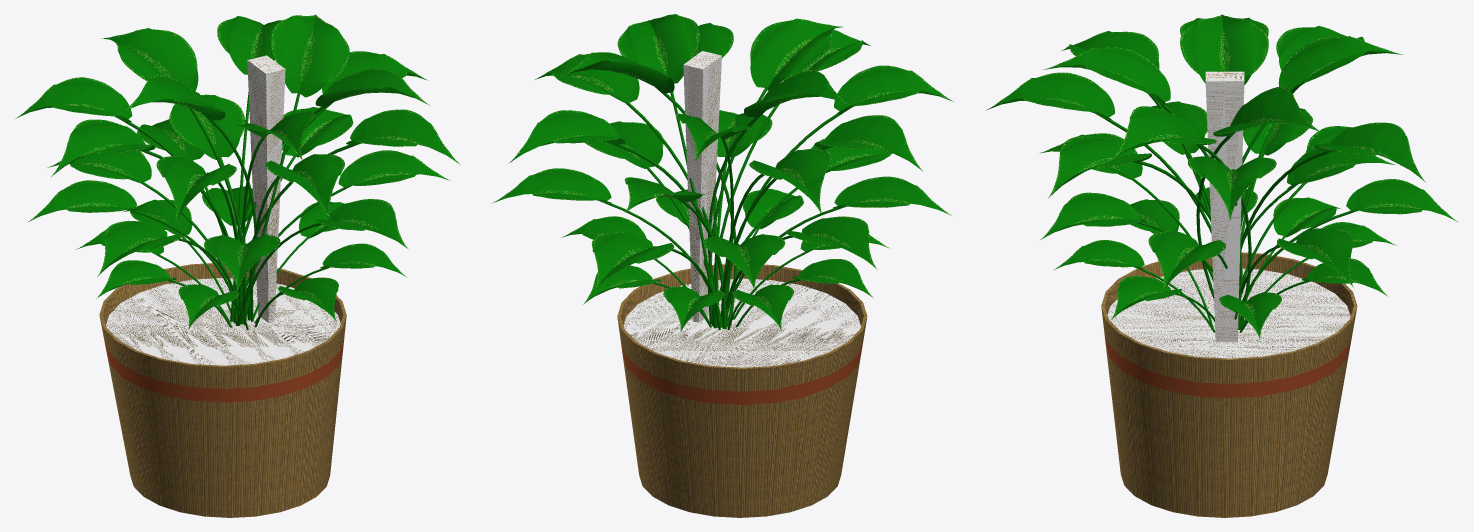
Rendered from potted_plant2.dae.
3 views of the same model, side by side, from view 1: azimuth 30°, elevation 25°; view 2: azimuth 150°, elevation 25°; view 3: azimuth 270°, elevation 25° (orthographic). The views are drawn at different scales.
Visible parts, largest first — view 1: skpA828 (×6), Component (×31); view 2: skpA828 (×6), Component (×32); view 3: skpA828 (×6), Component (×27).
Boxes of the visible parts, <box> form: skpA828 (×6): <box>99,55,346,517</box>; Component (×31): <box>22,16,454,325</box>; skpA828 (×6): <box>617,51,867,517</box>; Component (×32): <box>499,15,946,328</box>; skpA828 (×6): <box>1101,71,1357,517</box>; Component (×27): <box>995,15,1452,335</box>.
Bounding box in the file's own units: 51.8 × 53.74 × 53.21.
Materials: 6 (2 with a texture image).
